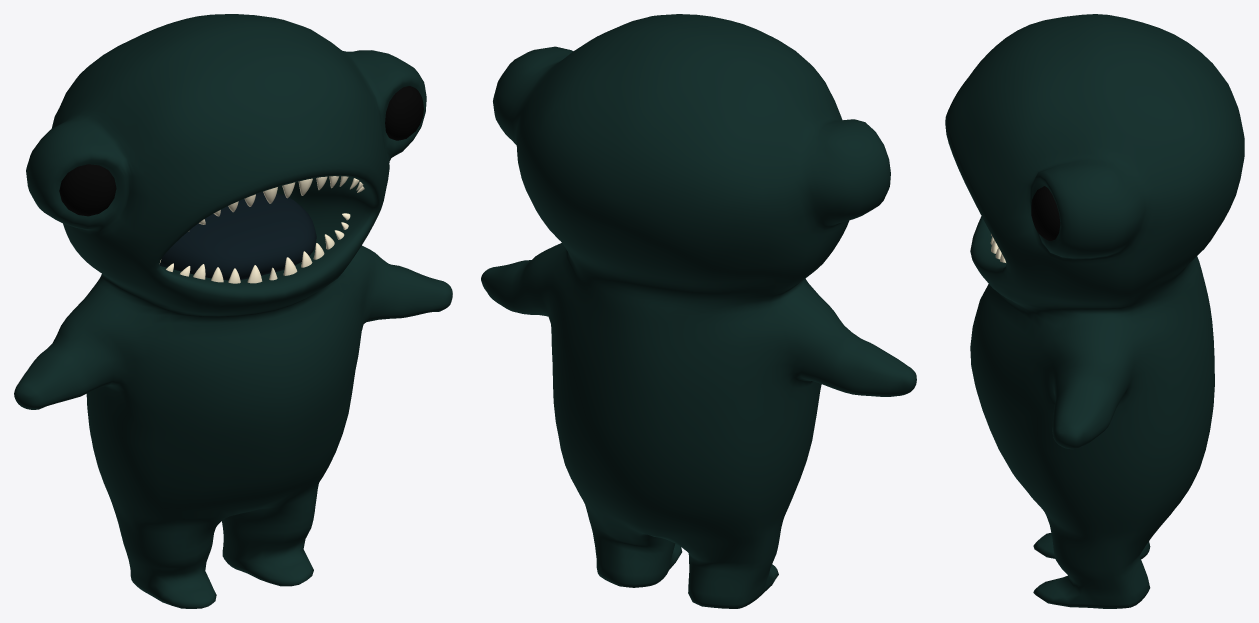
Rendered from Monstre.fbx.
3 views of the same model, side by side, from view 1: azimuth 30°, elevation 25°; view 2: azimuth 150°, elevation 25°; view 3: azimuth 270°, elevation 25° (orthographic).
Visible parts, largest first — view 1: Box001; view 2: Box001; view 3: Box001.
Boxes of the visible parts, x1=… form: Box001: x1=14, y1=14, x2=452, y2=608; Box001: x1=481, y1=14, x2=916, y2=608; Box001: x1=945, y1=14, x2=1244, y2=608.
Bounding box in the file's own units: 4049 × 4907 × 2452.
